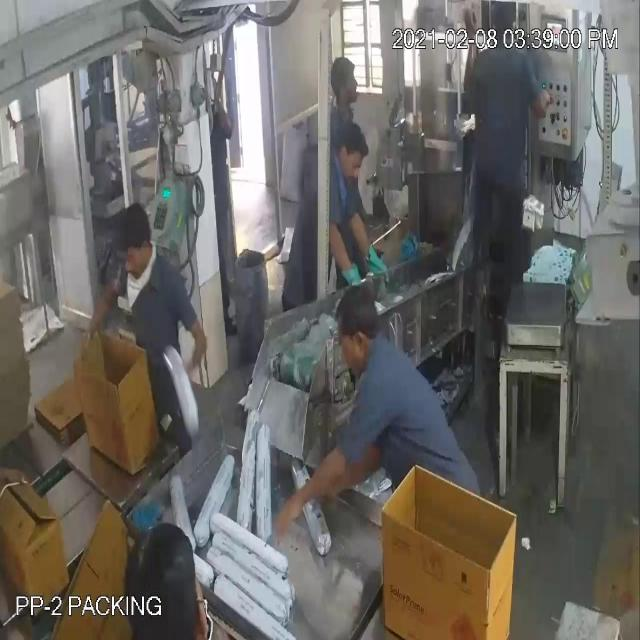No_Gloves: (32, 74, 372, 490)
